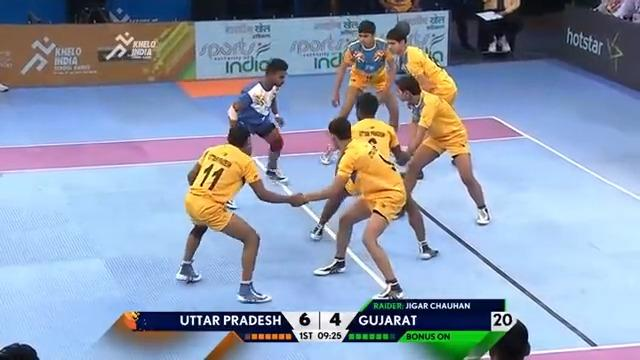Player: (175, 122, 307, 303), (290, 115, 410, 300), (312, 91, 438, 260), (392, 75, 491, 225), (319, 19, 400, 164)
Raider: (226, 57, 290, 185)
referee: (463, 317, 531, 359), (475, 0, 521, 55), (0, 342, 39, 359)
